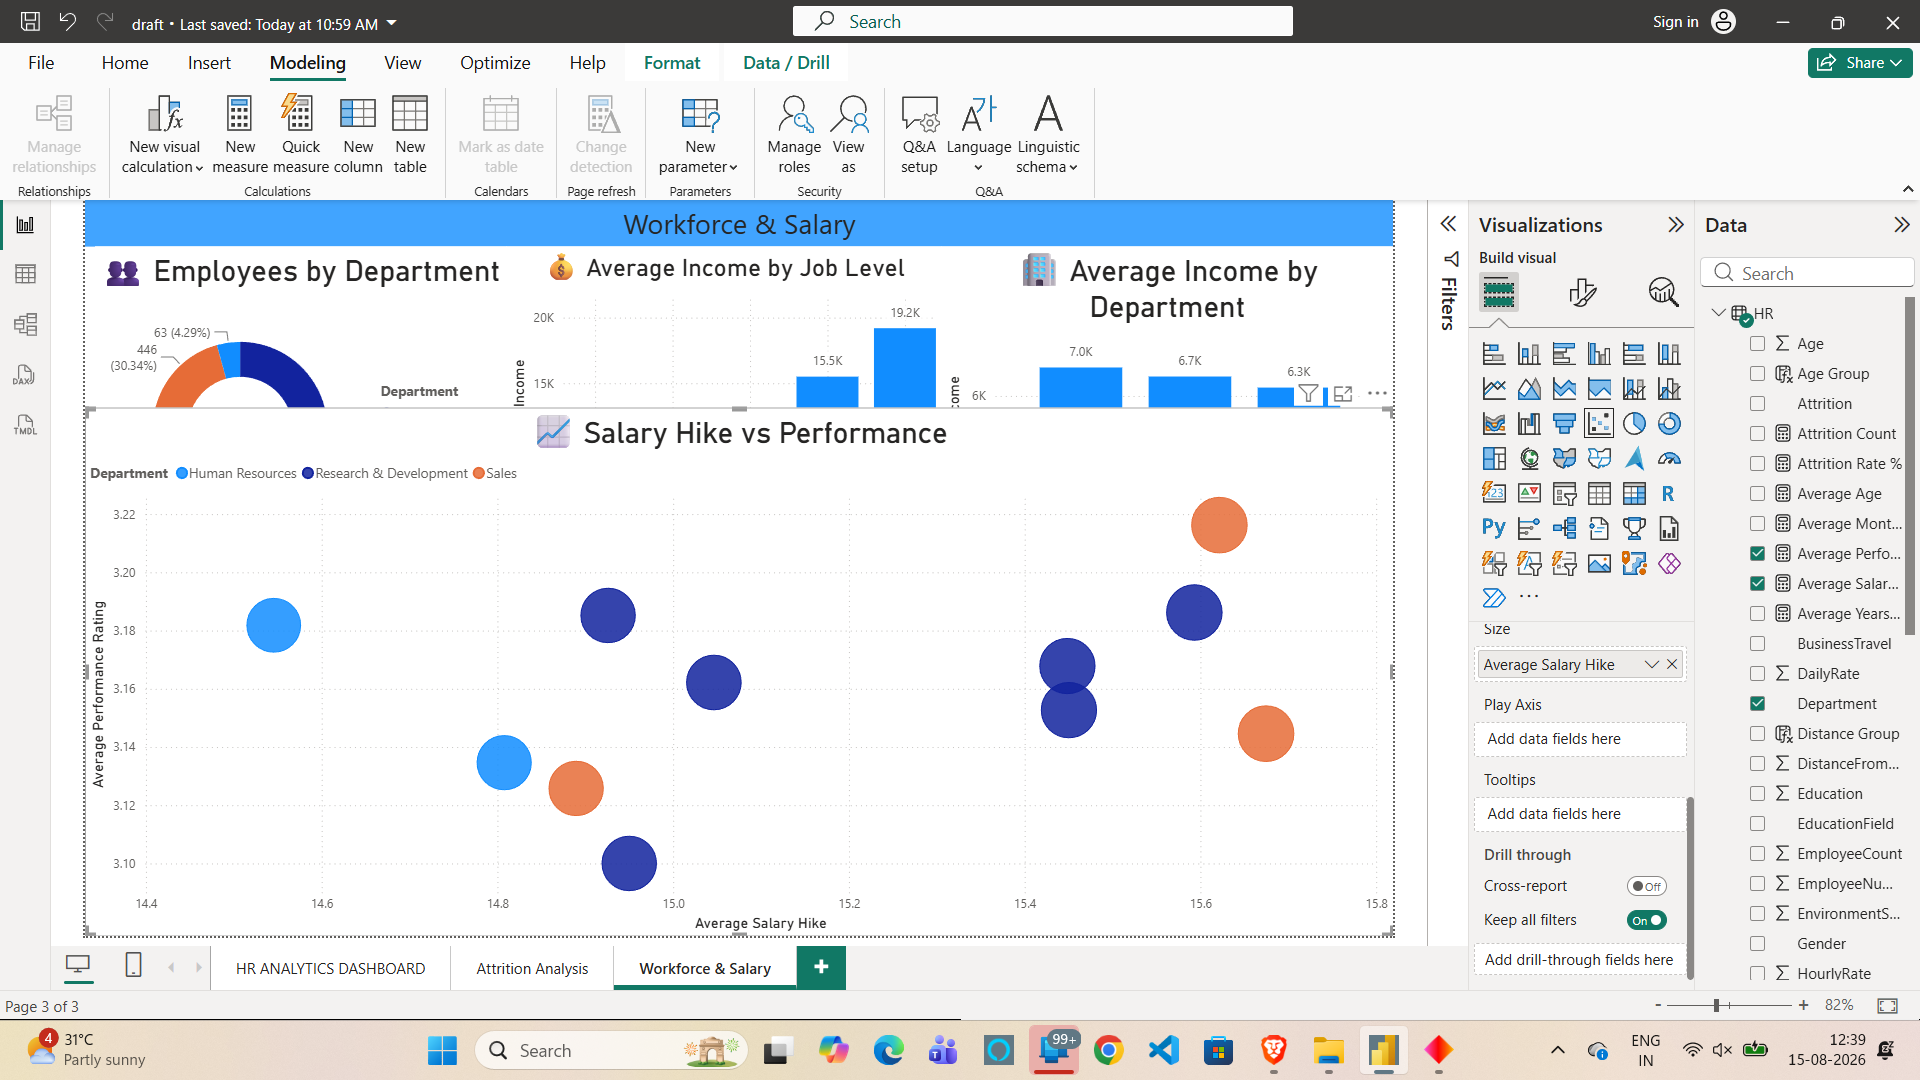

The dashboard page shown, as its layout file describes it:
{"tool":"powerbi","page":{"name":"Workforce & Salary","canvas":[1280,720],"ordinal":2},"visuals":[{"type":"textbox","box":[10,290,280,280],"z":0},{"type":"textbox","box":[0,0,1280.3,45.2],"z":1000},{"type":"donutChart","title":"👥 Employees by Department","fields":{"Category":["HR.Department"],"Y":["HR.Total Employees"]},"box":[9.7,76.5,402.1,282.4],"z":2000},{"type":"lineClusteredColumnComboChart","title":"💰 Average Income by Job Level","fields":{"Category":["HR.JobLevel"],"Y":["HR.Average Monthly Income"]},"box":[411.8,76.5,425.7,339.5],"z":3000},{"type":"lineClusteredColumnComboChart","title":"🏢 Average Income by Department","fields":{"Category":["HR.Department"],"Y":["HR.Average Monthly Income"]},"box":[837.6,76.5,442.4,353.4],"z":4000},{"type":"scatterChart","title":"📈 Salary Hike vs Performance","fields":{"X":["HR.Average Salary Hike"],"Category":["HR.JobRole"],"Series":["HR.Department"],"Y":["HR.Average Performance Rating"]},"box":[0,430.4,1280.3,289.8],"z":5000},{"type":"pageNavigator","box":[0,45.9,1280,20.5],"z":8000},{"type":"listSlicer","fields":{"Values":["HR.BusinessTravel"]},"box":[0,335.4,222,132.7],"z":8001}]}

Visuals, with their boxes on the page's 1280x720 design canvas (x1, y1, x2, y2). These are canvas units, not pixel positions in the 1920x1080 screenshot, which may show the page scaled, cropped or inside an application window:
textbox: {"left": 10, "top": 290, "right": 290, "bottom": 570}
textbox: {"left": 0, "top": 0, "right": 1280, "bottom": 45}
"👥 Employees by Department" donutChart: {"left": 10, "top": 76, "right": 412, "bottom": 359}
"💰 Average Income by Job Level" lineClusteredColumnComboChart: {"left": 412, "top": 76, "right": 838, "bottom": 416}
"🏢 Average Income by Department" lineClusteredColumnComboChart: {"left": 838, "top": 76, "right": 1280, "bottom": 430}
"📈 Salary Hike vs Performance" scatterChart: {"left": 0, "top": 430, "right": 1280, "bottom": 720}
pageNavigator: {"left": 0, "top": 46, "right": 1280, "bottom": 66}
listSlicer - HR.BusinessTravel: {"left": 0, "top": 335, "right": 222, "bottom": 468}
